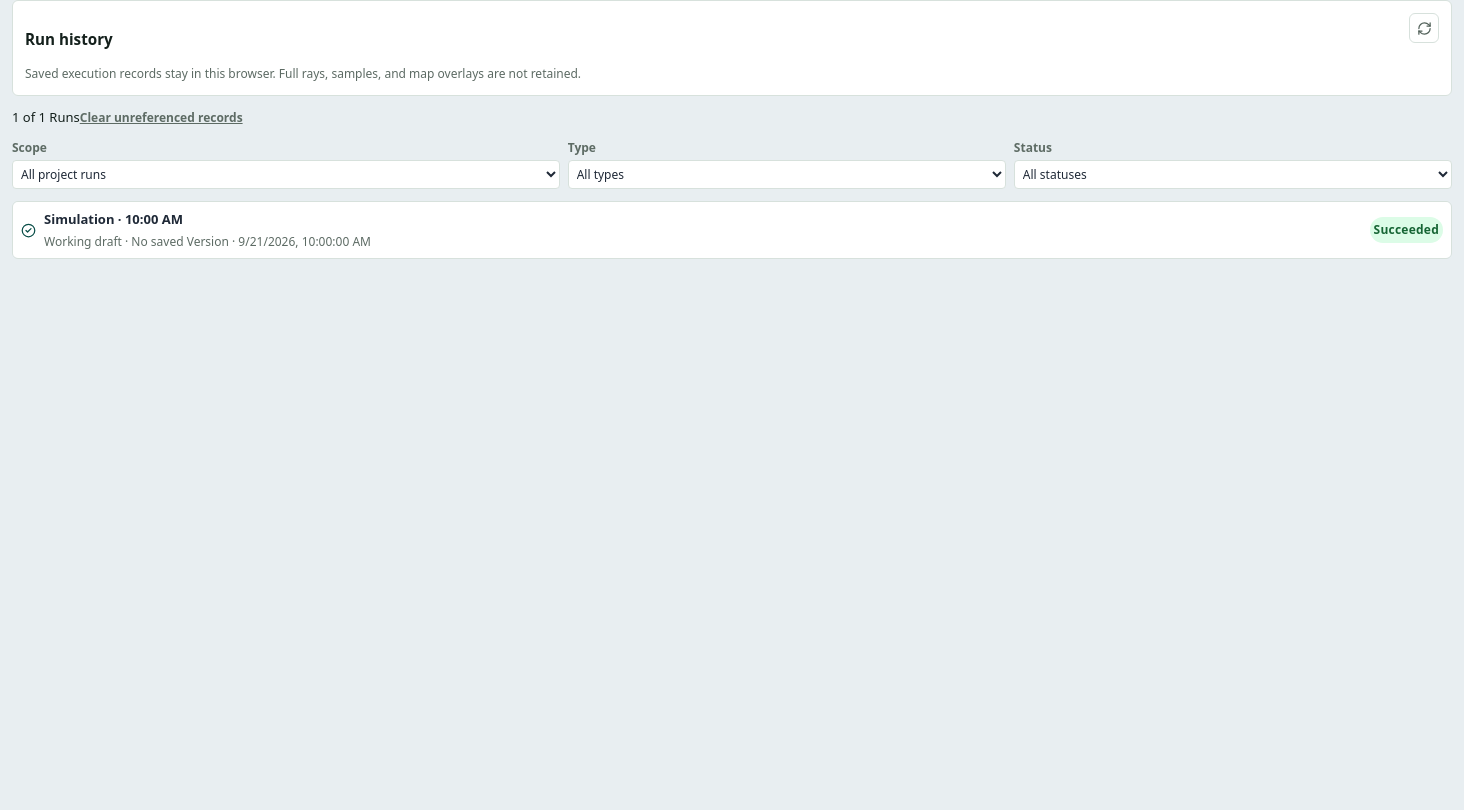
Test: RunHistoryPanel › labels an unretained historical rerun input unavailable
The width and height of the screenshot is (1464, 810).
Click the button with aria-label "Open Simulation · 10:00 AM, Succeeded, Working draft · No sa": click(113, 219) [13,202,1451,258]
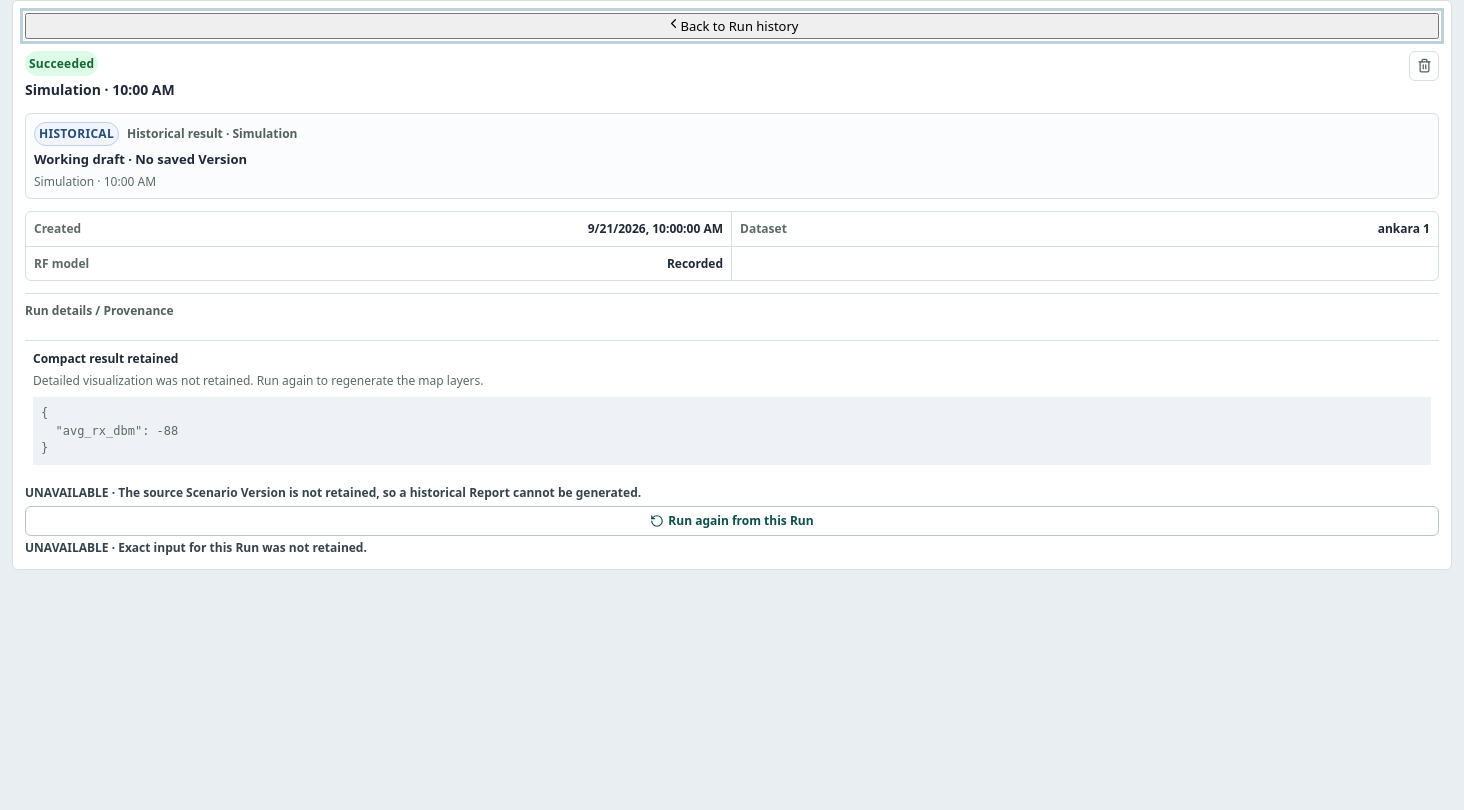
expect the text "UNAVAILABLE · Exact input for this Run was not retained." is shown: met, box [25,539,367,556]
expect the button "Run again from this Run" is disabled: met, box [25,506,1439,536]
